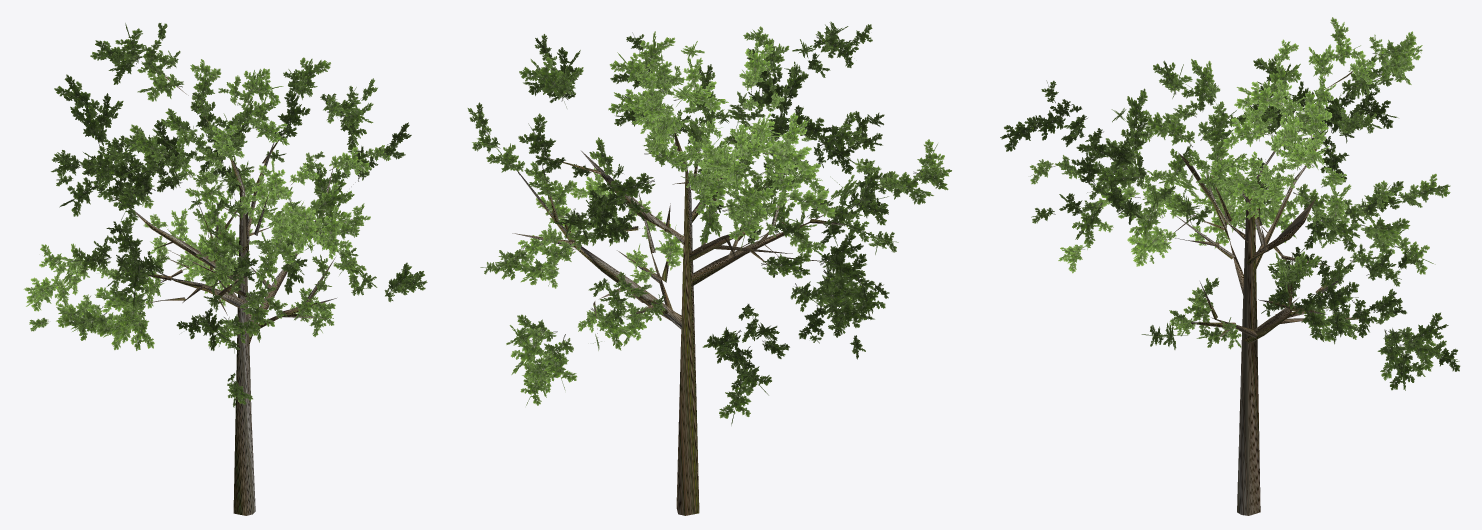
Rendered from oak-far.glb.
The picture shows the model from 3 angles, left to right: view 1: azimuth 30°, elevation 25°; view 2: azimuth 150°, elevation 25°; view 3: azimuth 270°, elevation 25°; orthographic projection. The views are drawn at different scales.
Visible parts, largest first — view 1: oak-leaves, oak-bark; view 2: oak-leaves, oak-bark; view 3: oak-leaves, oak-bark.
Boxes of the visible parts, box(x1,y1,x2,y2) form: oak-leaves: box(23, 23, 427, 407); oak-bark: box(113, 77, 355, 515); oak-leaves: box(467, 21, 951, 425); oak-bark: box(512, 129, 851, 515); oak-leaves: box(1000, 17, 1460, 390); oak-bark: box(1172, 72, 1373, 515).
Size of the model in its own units: 9.8 by 10.67 by 9.81.
2 materials, 2 textured.
